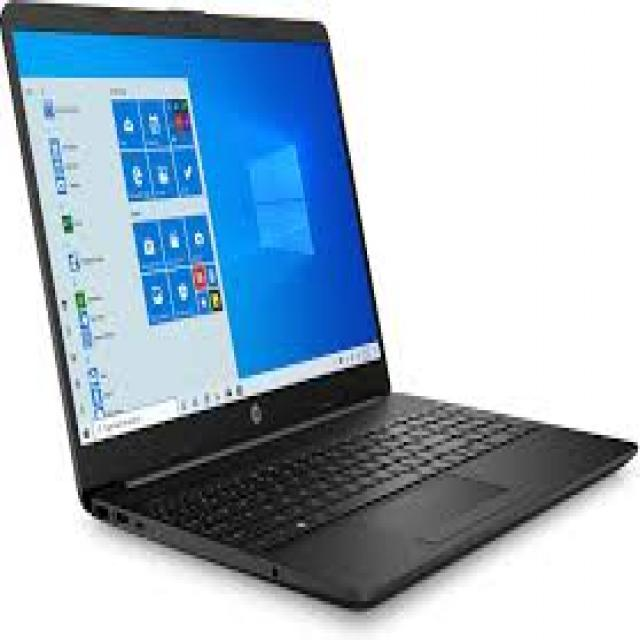others: (2, 4, 640, 608)
